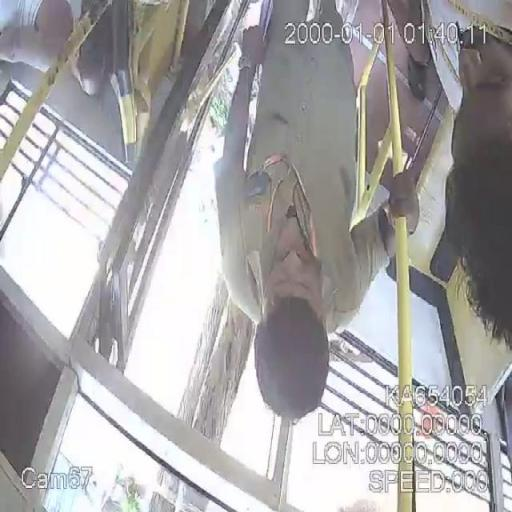persona: (209, 0, 420, 423), (429, 4, 512, 332)
